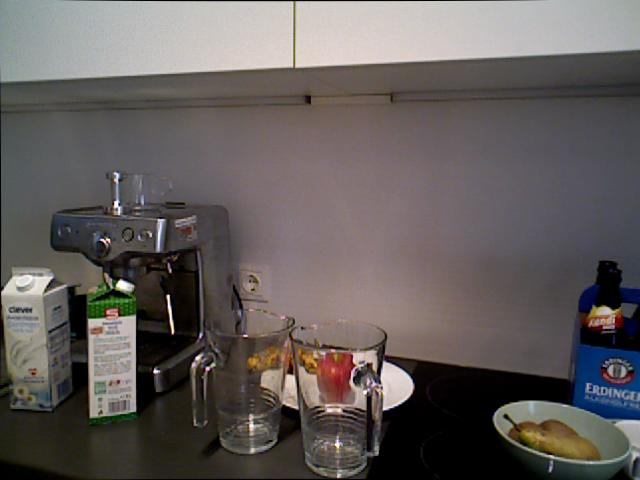bench: (2, 268, 73, 410), (86, 270, 138, 425), (590, 261, 626, 350)
bicycle: (310, 350, 361, 402)
bird: (491, 399, 631, 479)
handbag: (288, 319, 387, 478), (189, 308, 295, 454), (104, 167, 174, 218)
motorcycle: (243, 338, 317, 375)
